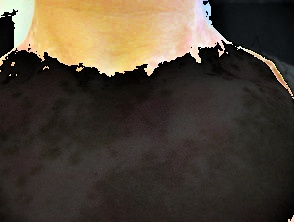vitiligo: (0, 4, 294, 222)
